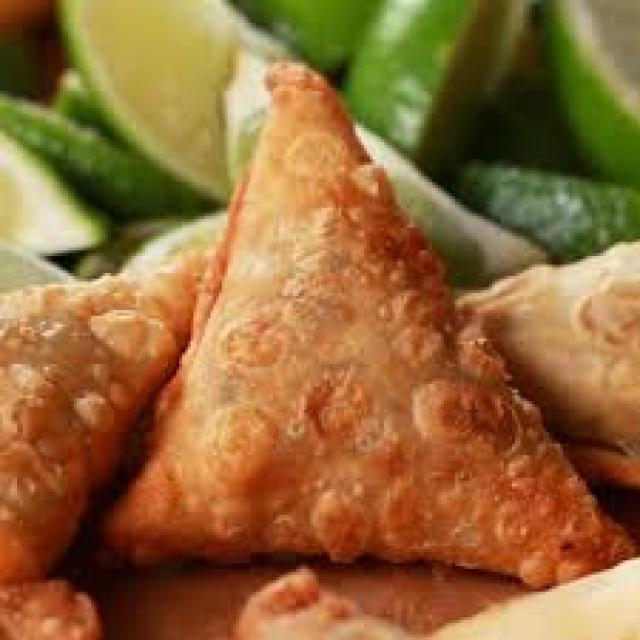SAMOSA: (108, 63, 634, 586), (0, 247, 213, 597), (458, 242, 637, 486)
